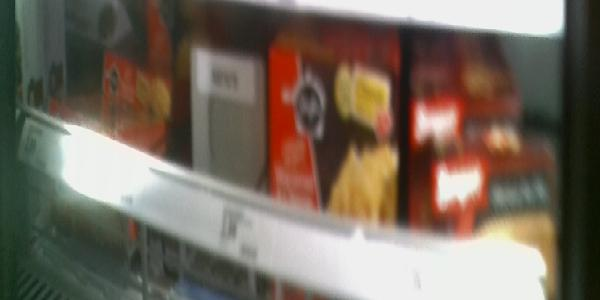pizza1: (271, 43, 390, 216)
pizza2: (412, 160, 558, 215), (45, 98, 169, 160), (411, 100, 528, 150), (100, 54, 188, 114)
